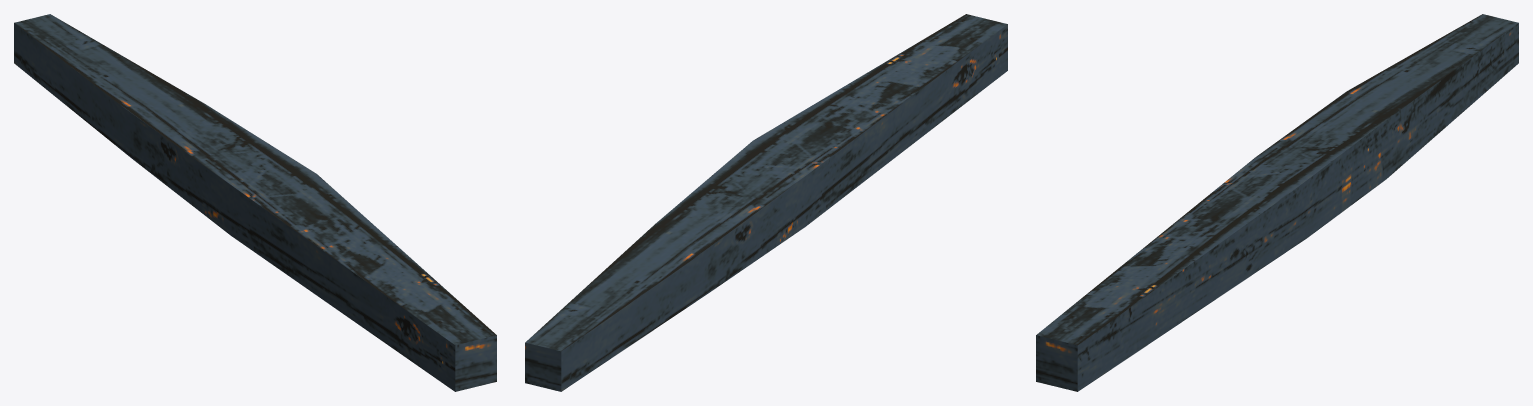
The model's file is plank_3.fbx.
The picture shows the model from 3 angles, left to right: view 1: azimuth 30°, elevation 25°; view 2: azimuth 150°, elevation 25°; view 3: azimuth 330°, elevation 25°; orthographic projection.
Visible parts, largest first — view 1: plank_3; view 2: plank_3; view 3: plank_3.
Boxes of the visible parts, left/top/right/bottom form: plank_3: left=14, top=14, right=496, bottom=391; plank_3: left=525, top=14, right=1007, bottom=391; plank_3: left=1036, top=14, right=1518, bottom=391.
Size of the model in its own units: 0.00201 by 0.00166 by 0.0223.
